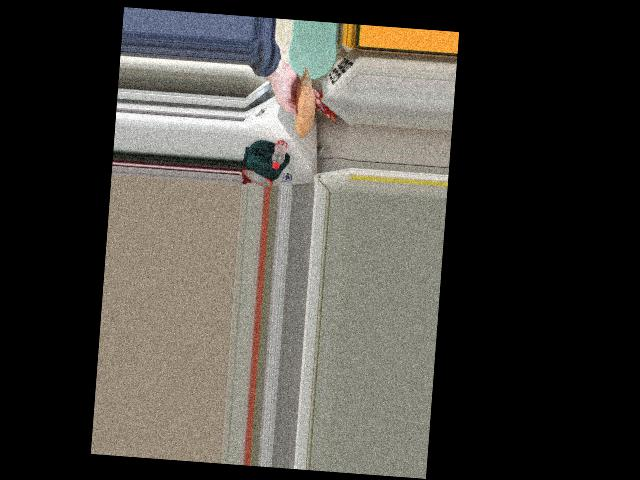sweet_potato: (289, 80, 313, 130)
